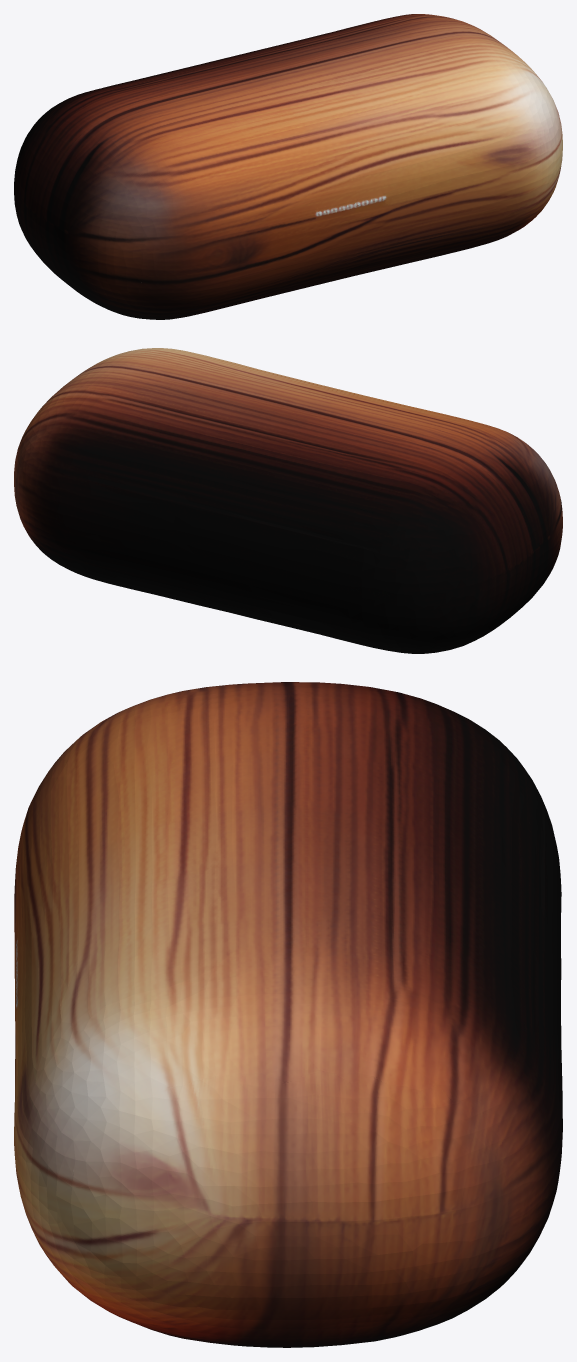
Rendered from wooden-bluetooth-speaker-case-3d.jpeg.glb.
3 views of the same model, one above another, from view 1: azimuth 30°, elevation 25°; view 2: azimuth 150°, elevation 25°; view 3: azimuth 270°, elevation 25° (orthographic). The views are drawn at different scales.
Visible parts, largest first — view 1: world; view 2: world; view 3: world.
Part boxes in pixels (x1,y1,x2,y2): world: (14, 14, 562, 319); world: (14, 348, 562, 653); world: (14, 682, 562, 1347).
Size of the model in its own units: 0.9993 by 0.3794 by 0.5263.
Materials: 1 (1 with a texture image).
